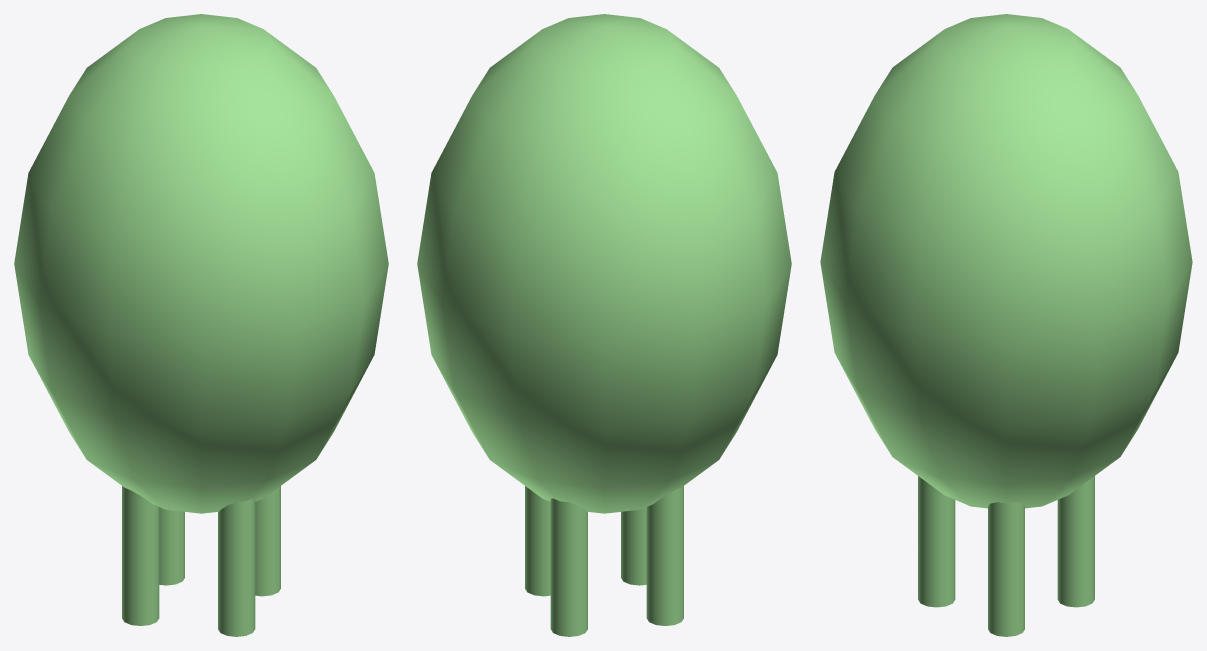
Rendered from crop_carrot_growing.glb.
3 renders of one model, left to right at view 1: azimuth 30°, elevation 25°; view 2: azimuth 150°, elevation 25°; view 3: azimuth 270°, elevation 25°, orthographic.
Visible parts, largest first — view 1: Crop_Carrot_Growing; view 2: Crop_Carrot_Growing; view 3: Crop_Carrot_Growing.
Part boxes in pixels (bbox=[...]): Crop_Carrot_Growing: bbox=[14, 14, 388, 636]; Crop_Carrot_Growing: bbox=[417, 14, 791, 636]; Crop_Carrot_Growing: bbox=[820, 14, 1192, 636].
Bounding box in the file's own units: 0.16 × 0.272 × 0.16.
